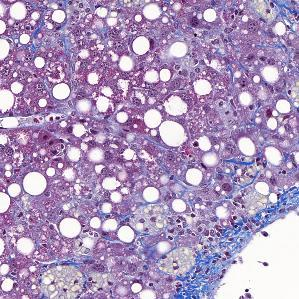fibrosis: (180, 218, 249, 287)
